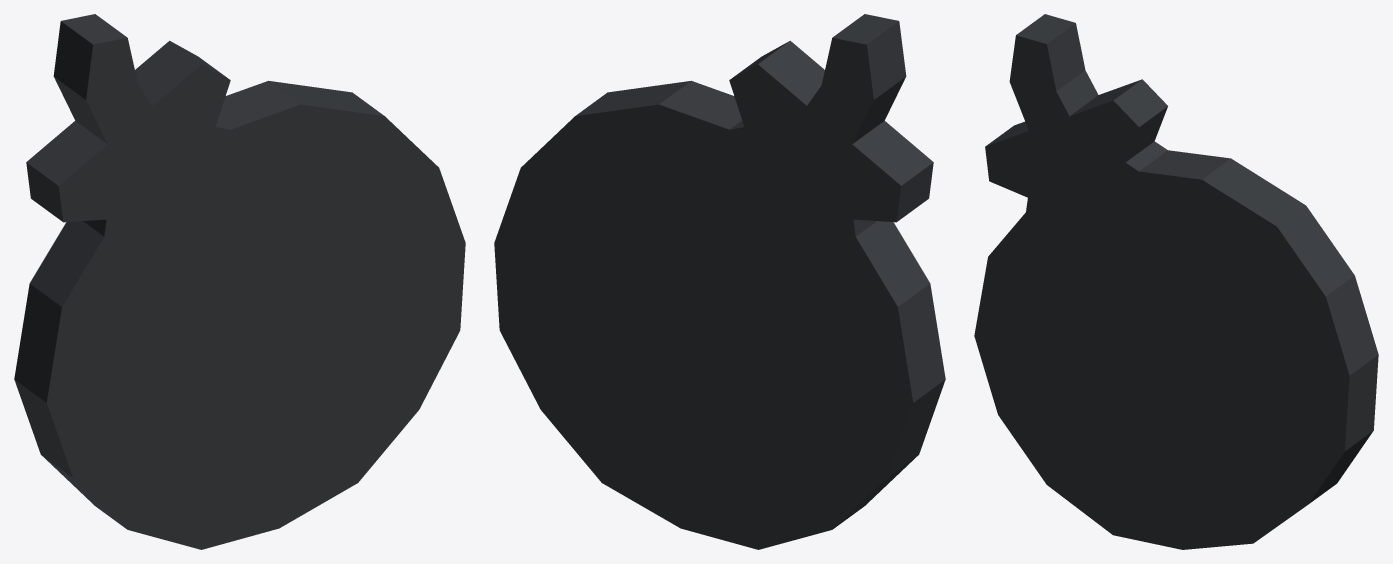
Rendered from FX_Bomb_01.fbx.
3 views of the same model, side by side, from view 1: azimuth 30°, elevation 25°; view 2: azimuth 150°, elevation 25°; view 3: azimuth 330°, elevation 25° (orthographic). The views are drawn at different scales.
Parts seen in each view (by area): view 1: FX_Bomb_01; view 2: FX_Bomb_01; view 3: FX_Bomb_01.
Part boxes in pixels (left/top/right/bottom): FX_Bomb_01: left=14, top=14, right=465, bottom=549; FX_Bomb_01: left=494, top=14, right=945, bottom=549; FX_Bomb_01: left=974, top=14, right=1378, bottom=549.
Size of the model in its own units: 50.99 by 61.84 by 6.83.
